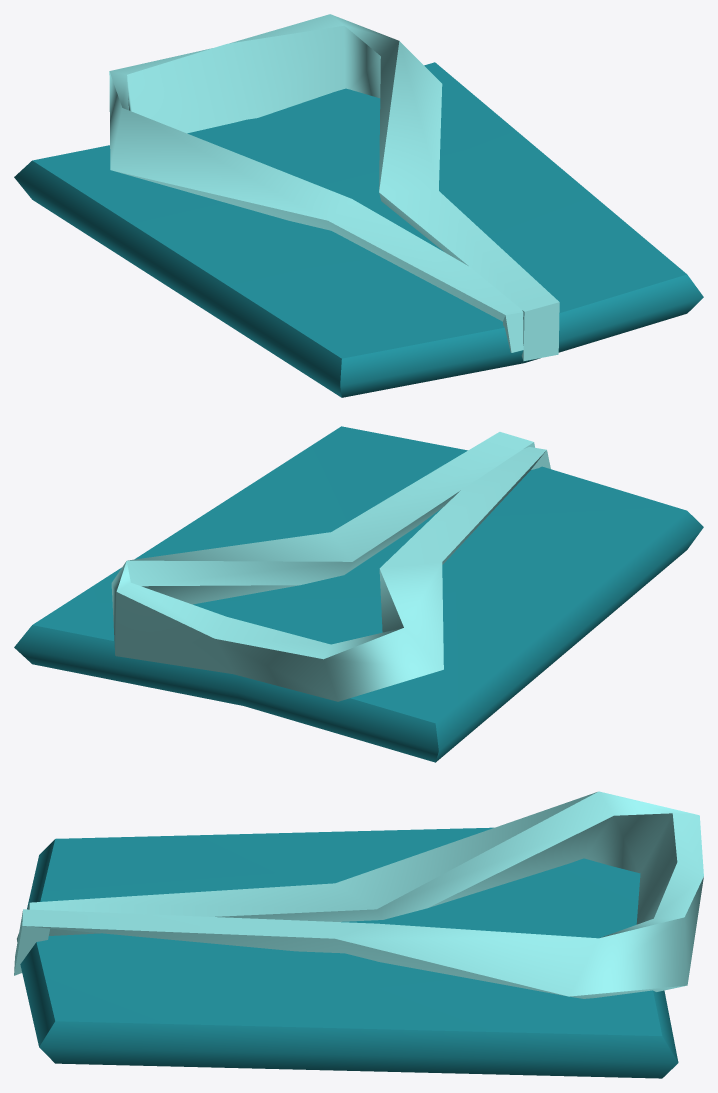
File: pajamas.fbx
3 renders of one model, top to bottom at view 1: azimuth 30°, elevation 25°; view 2: azimuth 150°, elevation 25°; view 3: azimuth 270°, elevation 25°, orthographic. The views are drawn at different scales.
Parts seen in each view (by area): view 1: pajamas; view 2: pajamas; view 3: pajamas.
Boxes of the visible parts, left/top/right/bottom form: pajamas: left=14, top=14, right=703, bottom=397; pajamas: left=14, top=426, right=703, bottom=762; pajamas: left=14, top=791, right=703, bottom=1078.
Size of the model in its own units: 0.702 by 0.1626 by 0.9136.
